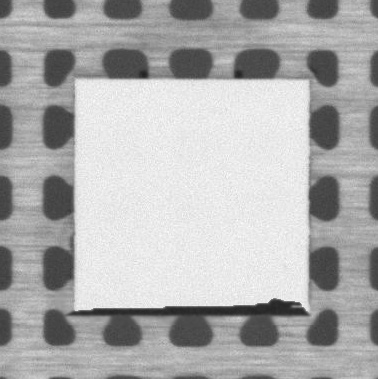DIE_BROKEN: (70, 296, 312, 317)
